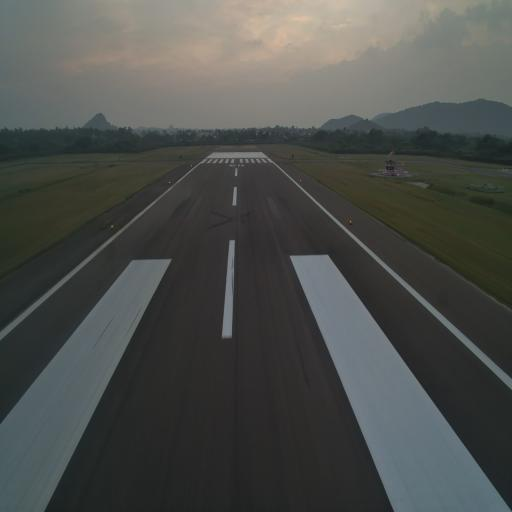on: (108, 224, 115, 232), (348, 218, 354, 226)
